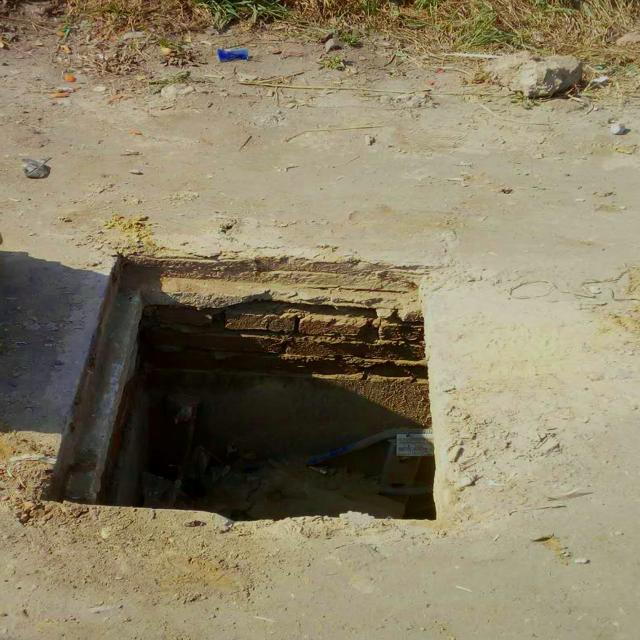lose: (14, 245, 460, 552)
